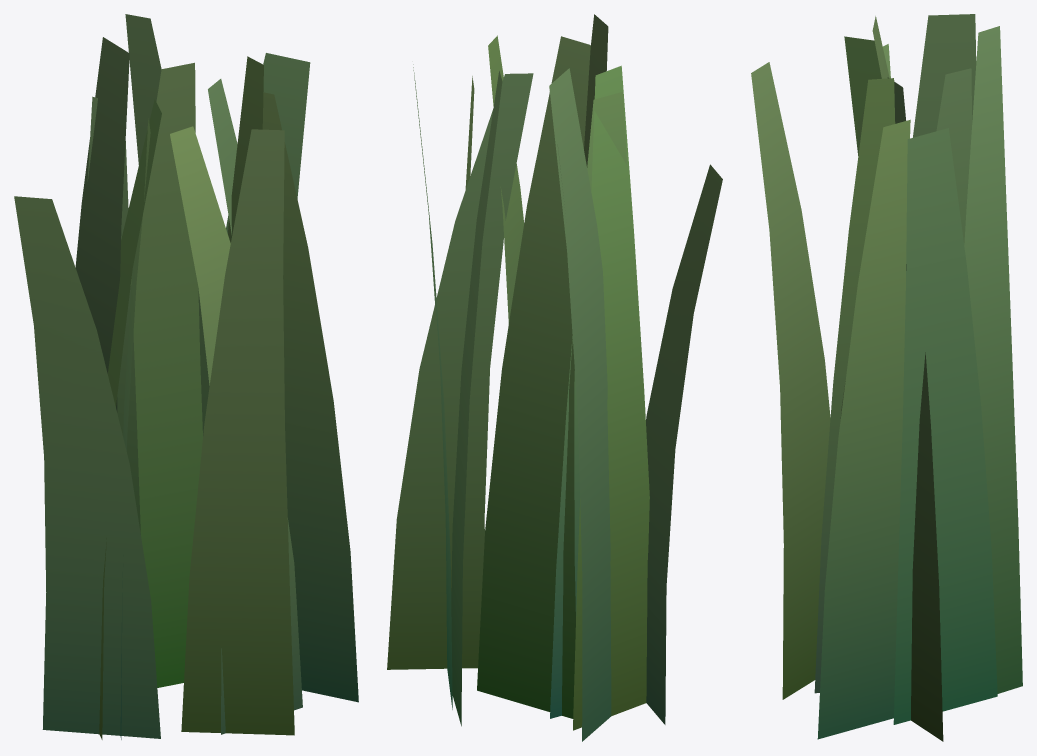
Rendered from env_grass_broad_clump_01.glb.
3 renders of one model, left to right at view 1: azimuth 30°, elevation 25°; view 2: azimuth 150°, elevation 25°; view 3: azimuth 270°, elevation 25°, orthographic.
Visible parts, largest first — view 1: grass_broad_clump; view 2: grass_broad_clump; view 3: grass_broad_clump.
Boxes of the visible parts, x1,y1,x2,y2 form: grass_broad_clump: (14,14,358,739); grass_broad_clump: (387,14,722,741); grass_broad_clump: (751,14,1022,741).
Size of the model in its own units: 0.1199 by 0.2391 by 0.0912.
